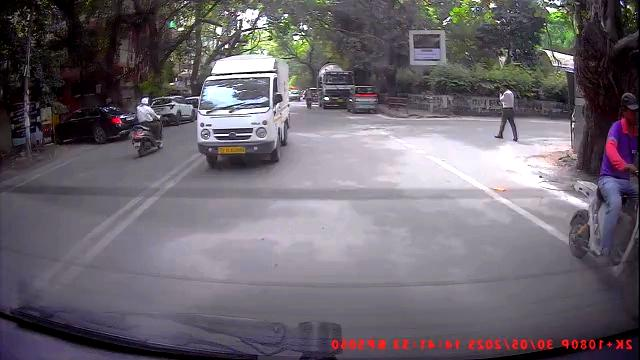motorcycle_with_helmet: (128, 97, 165, 157)
